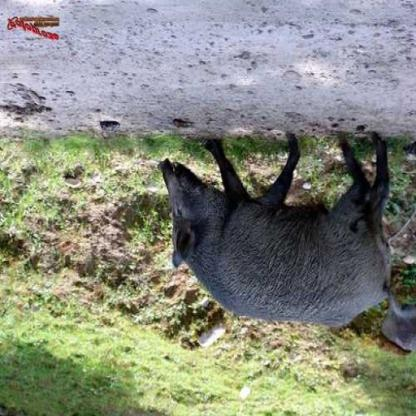boar: (143, 131, 415, 345), (388, 267, 415, 366)
